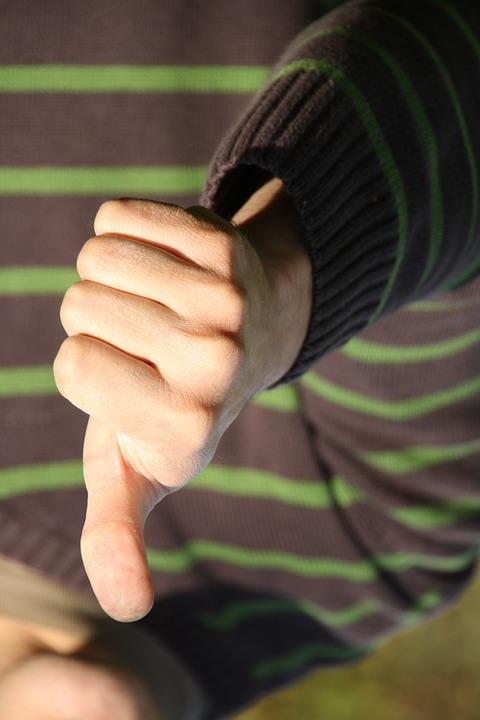thumbsdown: (51, 197, 252, 623)
